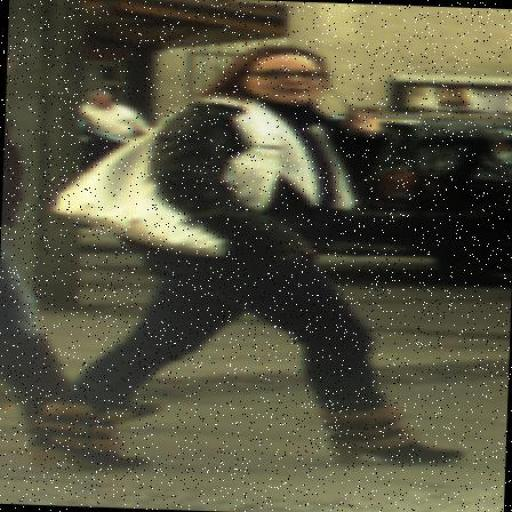person: (29, 22, 480, 475)
